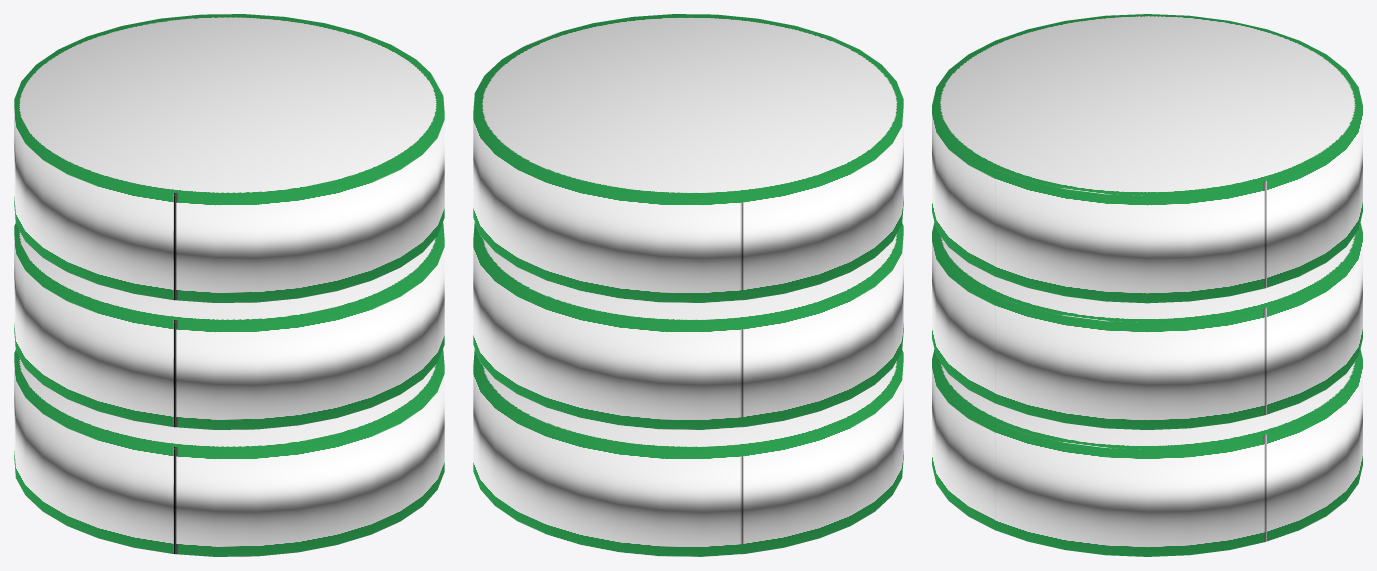
File: citusdb.fbx
The picture shows the model from 3 angles, left to right: view 1: azimuth 30°, elevation 25°; view 2: azimuth 150°, elevation 25°; view 3: azimuth 270°, elevation 25°; orthographic projection.
Visible parts, largest first — view 1: Cylinder.002, Cylinder.001, Cylinder.000; view 2: Cylinder.002, Cylinder.001, Cylinder.000; view 3: Cylinder.002, Cylinder.001, Cylinder.000.
Boxes of the visible parts, x1,y1,x2,y2 form: Cylinder.002: (14, 14, 444, 302); Cylinder.001: (14, 349, 444, 556); Cylinder.000: (14, 222, 444, 429); Cylinder.002: (473, 14, 903, 302); Cylinder.001: (473, 349, 903, 556); Cylinder.000: (473, 222, 903, 429); Cylinder.002: (932, 14, 1362, 303); Cylinder.001: (932, 349, 1362, 556); Cylinder.000: (932, 222, 1362, 429).
Bounding box in the file's own units: 200 × 185 × 200.
3 materials, 3 textured.
